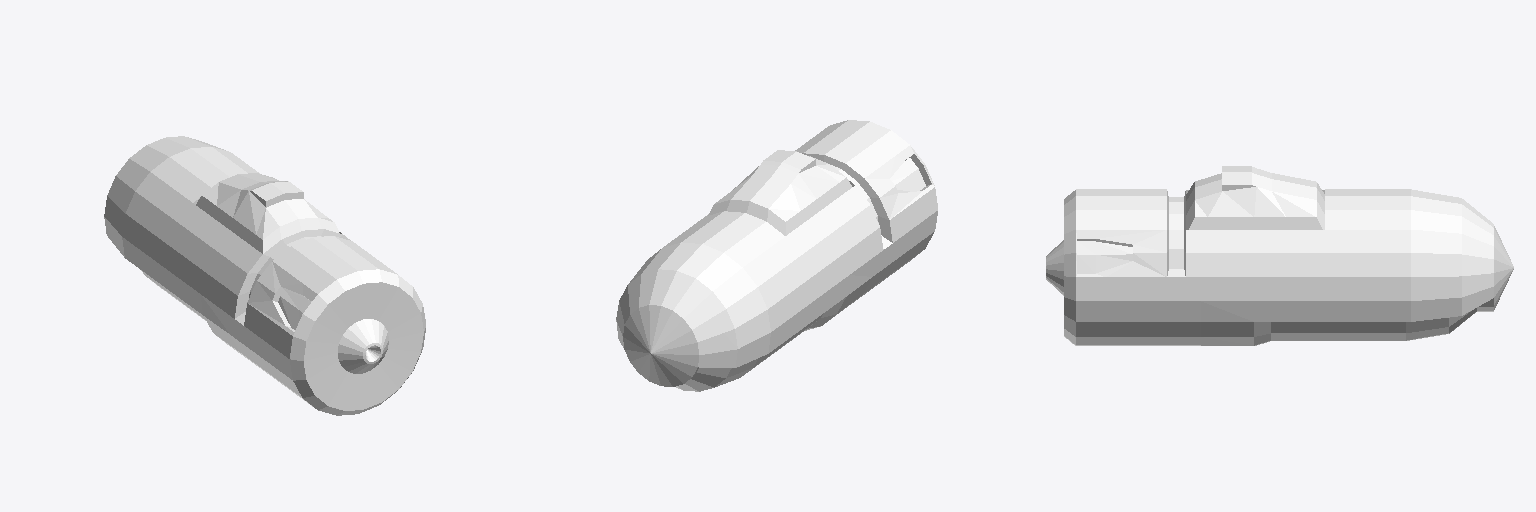
The model's file is oxygen_tank.obj.
3 views of the same model, side by side, from view 1: azimuth 30°, elevation 25°; view 2: azimuth 150°, elevation 25°; view 3: azimuth 270°, elevation 25° (orthographic).
Visible parts, largest first — view 1: pCylinder1; view 2: pCylinder1; view 3: pCylinder1.
Part boxes in pixels (x1,y1,x2,y2): pCylinder1: (104,136,425,415); pCylinder1: (616,120,937,391); pCylinder1: (1046,166,1513,345).
Bounding box in the file's own units: 2 × 2.33 × 5.93.